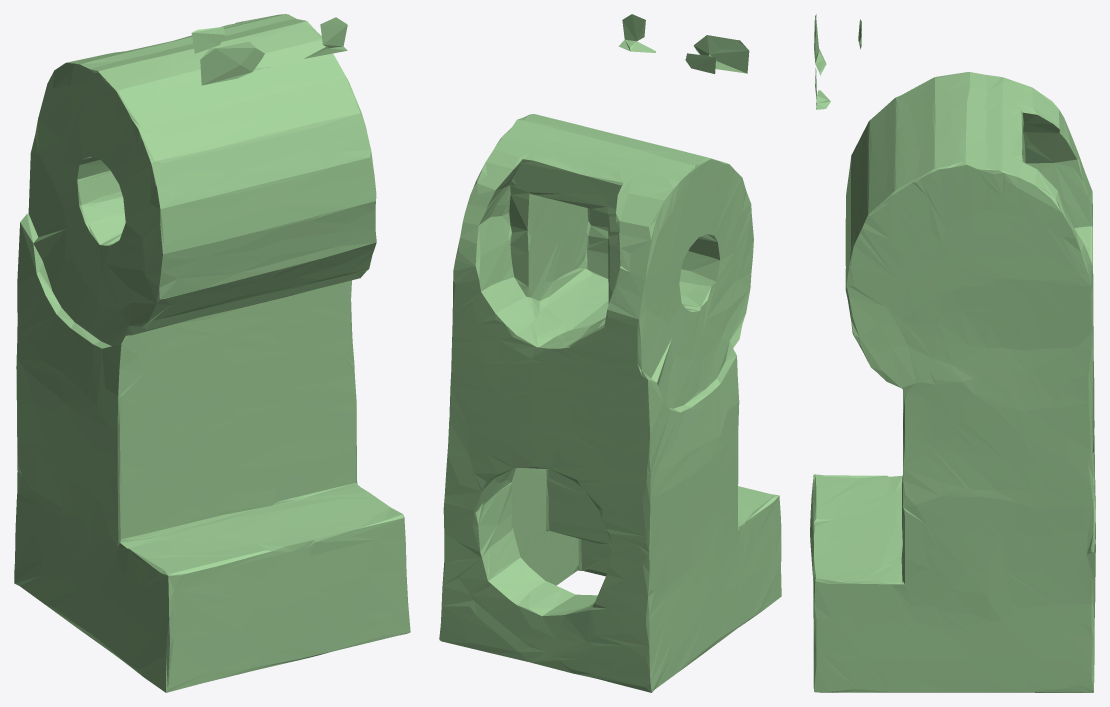
Rendered from spider-4.glb.
3 views of the same model, side by side, from view 1: azimuth 30°, elevation 25°; view 2: azimuth 150°, elevation 25°; view 3: azimuth 270°, elevation 25° (orthographic). The views are drawn at different scales.
Visible parts, largest first — view 1: part_04; view 2: part_04; view 3: part_04.
Boxes of the visible parts, x1,y1,x2,y2 form: part_04: (14, 14, 410, 692); part_04: (439, 14, 781, 692); part_04: (810, 14, 1095, 692).
Size of the model in its own units: 0.1698 by 0.418 by 0.1836.
